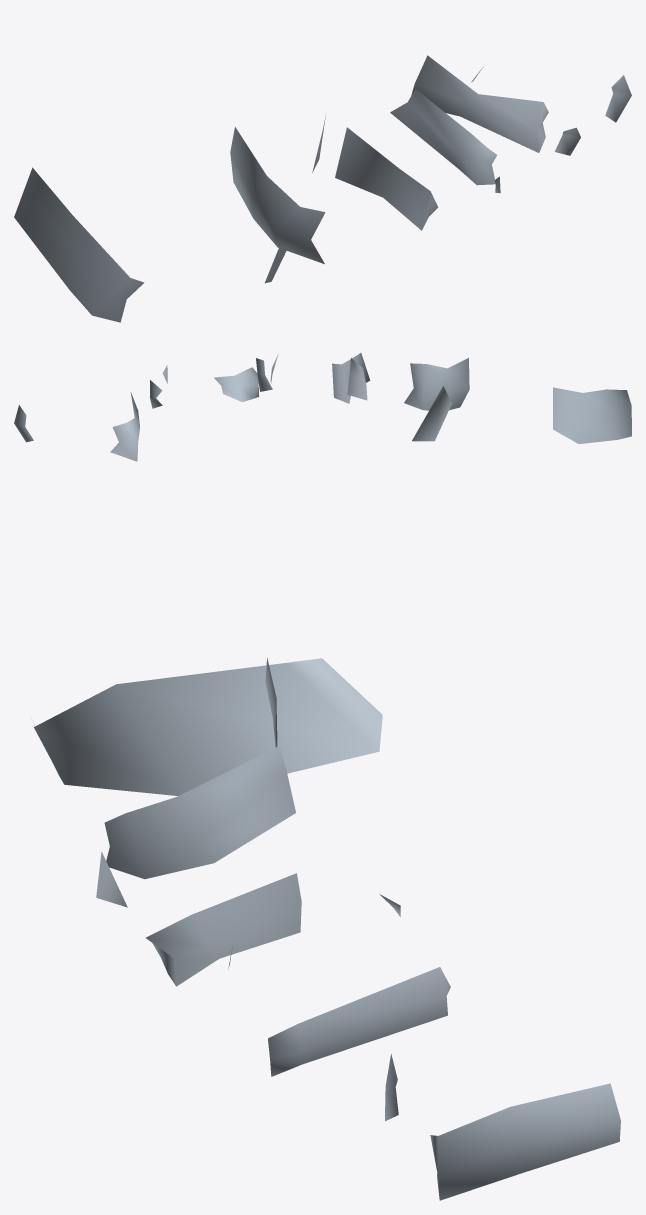
File: collateral-metatarsophalangeal-ligaments-l.glb
3 views of the same model, one above another, from view 1: azimuth 30°, elevation 25°; view 2: azimuth 150°, elevation 25°; view 3: azimuth 270°, elevation 25° (orthographic). The views are drawn at different scales.
Parts seen in each view (by area): view 1: Collateral metatarsophalangeal ligaments.l; view 2: Collateral metatarsophalangeal ligaments.l; view 3: Collateral metatarsophalangeal ligaments.l.
Boxes of the visible parts, x1,y1,x2,y2 form: Collateral metatarsophalangeal ligaments.l: (14, 55, 631, 322); Collateral metatarsophalangeal ligaments.l: (14, 353, 631, 461); Collateral metatarsophalangeal ligaments.l: (30, 658, 620, 1200).
Bounding box in the file's own units: 0.0827 × 0.019 × 0.0424.
